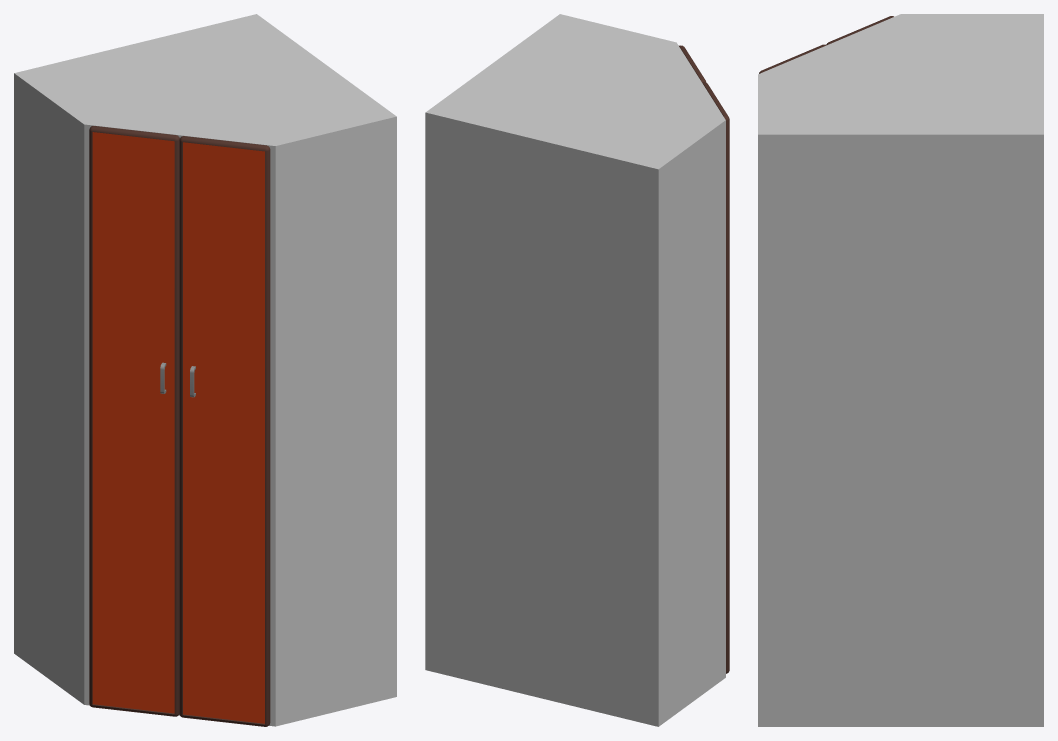
Rendered from mobileAngoloInternoArancio.obj.
The picture shows the model from 3 angles, left to right: view 1: azimuth 30°, elevation 25°; view 2: azimuth 150°, elevation 25°; view 3: azimuth 270°, elevation 25°; orthographic projection. The views are drawn at different scales.
Visible parts, largest first — view 1: Line36_1, Box26_7, Box25_3, ChamferBox22_4, ChamferBox23_6; view 2: Line36_1, ChamferBox23_6; view 3: Line36_1.
Boxes of the visible parts, box(x1,y1,x2,y2) form: Line36_1: box(14, 14, 396, 726); Box26_7: box(92, 132, 174, 713); Box25_3: box(183, 142, 264, 723); ChamferBox22_4: box(179, 136, 270, 726); ChamferBox23_6: box(89, 126, 179, 716); Line36_1: box(425, 14, 725, 726); ChamferBox23_6: box(702, 82, 729, 673); Line36_1: box(758, 14, 1043, 726).
Size of the model in its own units: 105 by 240 by 105.
